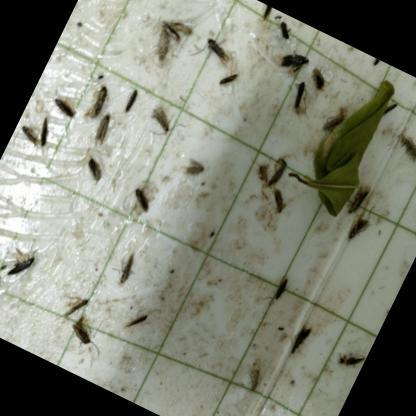prays_oleae: (278, 314, 322, 374), (52, 283, 95, 336), (312, 97, 349, 147), (238, 352, 275, 402), (175, 146, 215, 192), (196, 32, 237, 74), (76, 152, 116, 194), (340, 208, 376, 254), (144, 100, 182, 142), (110, 250, 147, 293), (45, 89, 85, 128), (334, 338, 371, 380), (264, 269, 298, 314), (276, 44, 313, 85), (381, 260, 412, 308), (302, 54, 336, 96), (2, 242, 40, 279), (389, 123, 416, 174), (67, 312, 103, 350), (27, 115, 62, 154), (88, 110, 121, 150), (126, 180, 160, 218), (82, 81, 115, 120), (344, 178, 375, 219), (286, 82, 316, 121), (263, 185, 295, 221), (270, 15, 298, 50), (154, 18, 185, 48), (118, 87, 146, 120), (218, 69, 244, 97), (125, 310, 151, 334), (0, 268, 8, 305)
